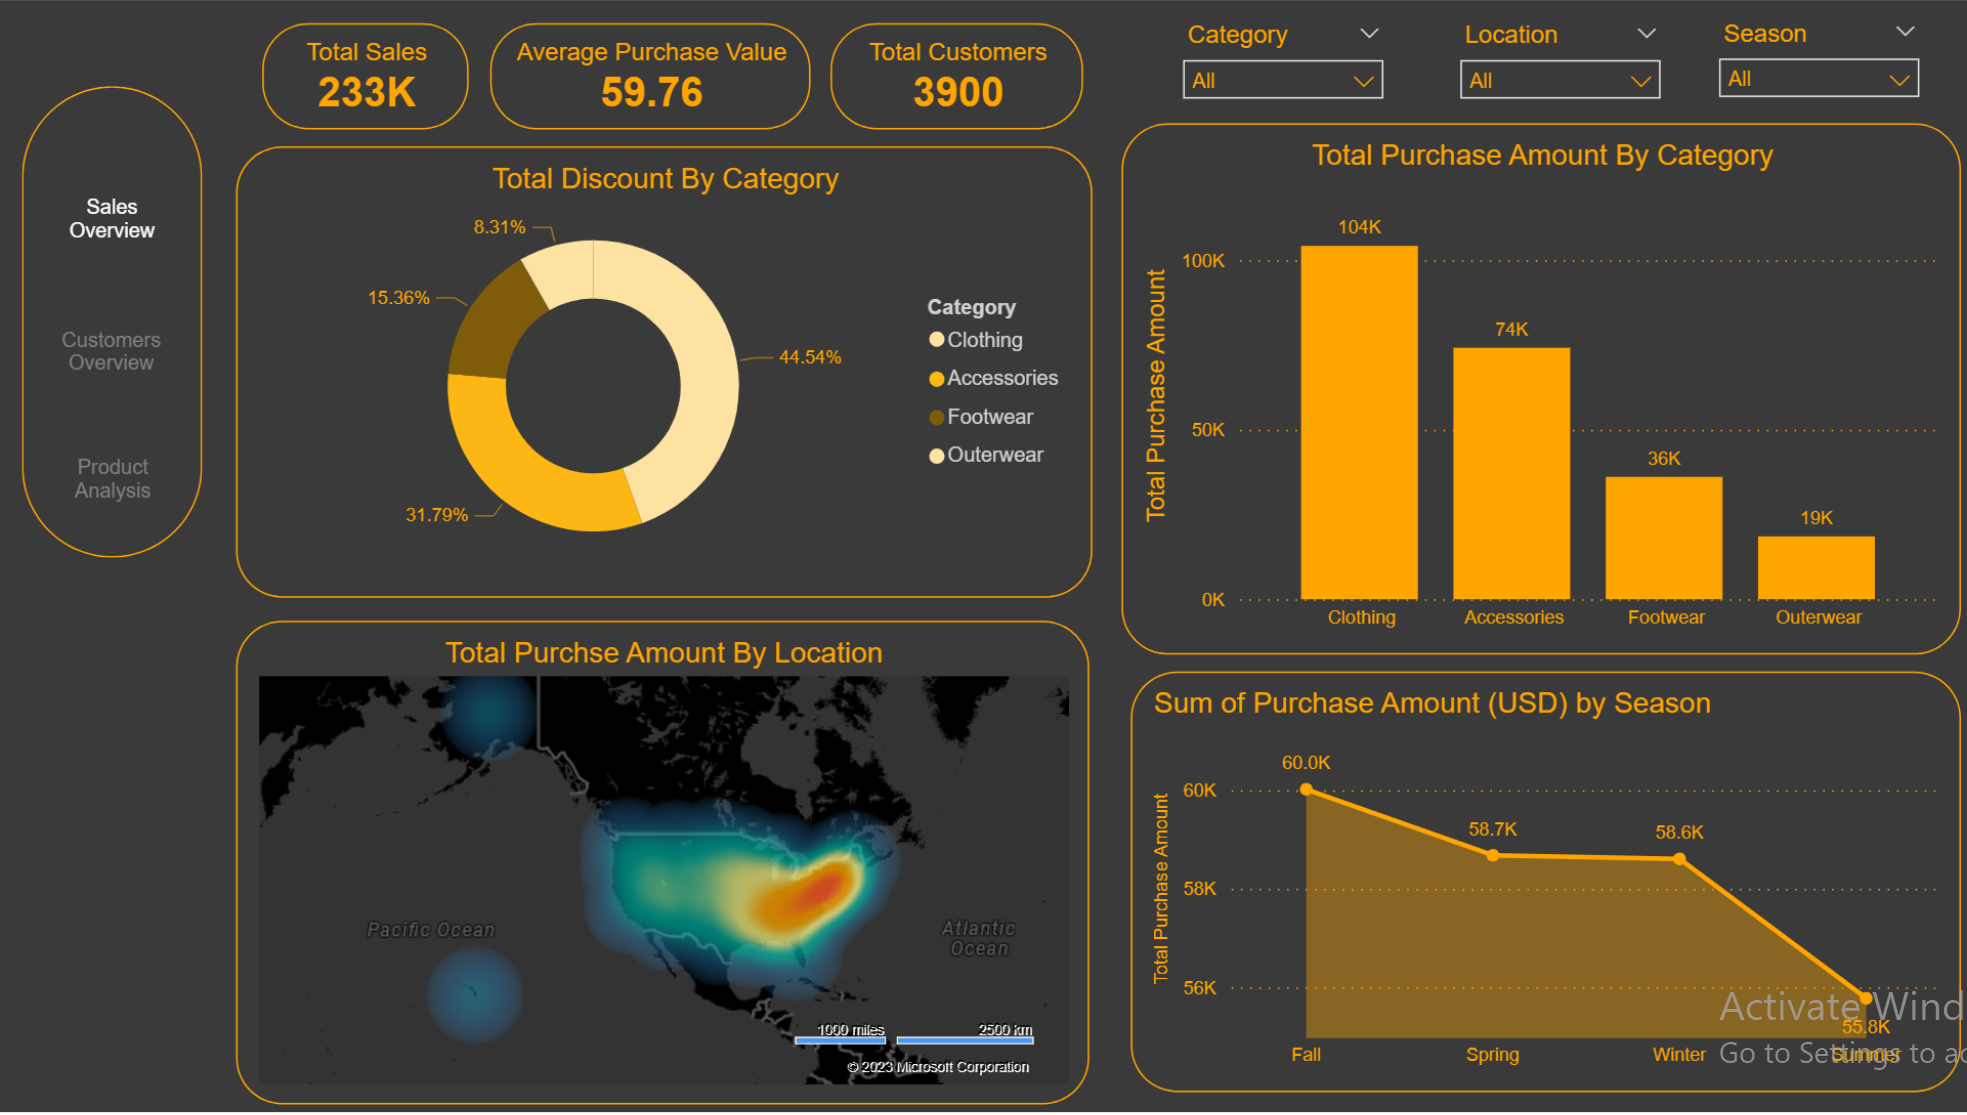

The dashboard page shown, as its layout file describes it:
{"tool":"powerbi","page":{"name":"Sales Overview","canvas":[1280,722],"ordinal":0},"visuals":[{"type":"card","title":"Total Sales","fields":{"Values":["Sum(shopping_trends_updated.Purchase Amount (USD))"]},"box":[172,14.9,134.4,68.8],"z":0},{"type":"card","title":"Total Customers","fields":{"Values":["Count(shopping_trends_updated.Customer ID)"]},"box":[540.8,14.9,164.1,68.8],"z":1000},{"type":"card","title":"Average Purchase Value","fields":{"Values":["Avg(shopping_trends_updated.Purchase Amount (USD))"]},"box":[319.7,14.9,207.8,68.8],"z":2000},{"type":"columnChart","title":"Total Purchase Amount By Category","fields":{"Category":["shopping_trends_updated.Category"],"Y":["Sum(shopping_trends_updated.Purchase Amount (USD))"]},"box":[729.7,79.7,545.3,345.3],"z":3000},{"type":"areaChart","fields":{"Category":["shopping_trends_updated.Season"],"Y":["Sum(shopping_trends_updated.Purchase Amount (USD))"]},"box":[735.9,435.9,539.1,273.4],"z":4000},{"type":"heatmapF244EA9EE1F34E828A80CF19B41976F8","title":"Total Purchse Amount By Location","fields":{"group":["shopping_trends_updated.Season"],"value":["Sum(shopping_trends_updated.Purchase Amount (USD))"],"location":["shopping_trends_updated.Location"]},"box":[155,402.7,554,313.9],"z":5000},{"type":"slicer","fields":{"Values":["shopping_trends_updated.Season"]},"box":[1108.3,7.6,150,71.9],"z":6000},{"type":"slicer","fields":{"Values":["shopping_trends_updated.Location"]},"box":[939.5,9.1,150,65.6],"z":7000},{"type":"slicer","fields":{"Values":["shopping_trends_updated.Category"]},"box":[759.8,9.1,150,64.1],"z":8000},{"type":"shape","box":[16,56.1,117.4,305.6],"z":9000},{"type":"donutChart","title":"Total Discount By Category","fields":{"Category":["shopping_trends_updated.Category"],"Y":["Divide(CountNonNull(shopping_trends_updated.Discount Applied), ScopedEval(CountNonNull(shopping_trends_updated.Discount "]},"box":[155,94.5,555.9,293.1],"z":10000},{"type":"actionButton","box":[24,106.8,101.4,70.7],"z":11000},{"type":"actionButton","box":[24,192.2,100.1,70.7],"z":12000},{"type":"actionButton","box":[25.4,274.9,100.1,70.7],"z":13000}]}

Visuals, with their boxes on the page's 1280x722 design canvas (x1, y1, x2, y2). These are canvas units, not pixel positions in the 1967x1115 screenshot, which may show the page scaled, cropped or inside an application window:
"Total Sales" card: bbox(172, 15, 306, 84)
"Total Customers" card: bbox(541, 15, 705, 84)
"Average Purchase Value" card: bbox(320, 15, 528, 84)
"Total Purchase Amount By Category" columnChart: bbox(730, 80, 1275, 425)
areaChart - shopping_trends_updated.Season x Sum(shopping_trends_updated.Purchase Amount (USD)): bbox(736, 436, 1275, 709)
"Total Purchse Amount By Location" heatmapF244EA9EE1F34E828A80CF19B41976F8: bbox(155, 403, 709, 717)
slicer - shopping_trends_updated.Season: bbox(1108, 8, 1258, 80)
slicer - shopping_trends_updated.Location: bbox(940, 9, 1090, 75)
slicer - shopping_trends_updated.Category: bbox(760, 9, 910, 73)
shape: bbox(16, 56, 133, 362)
"Total Discount By Category" donutChart: bbox(155, 94, 711, 388)
actionButton: bbox(24, 107, 125, 178)
actionButton: bbox(24, 192, 124, 263)
actionButton: bbox(25, 275, 126, 346)
